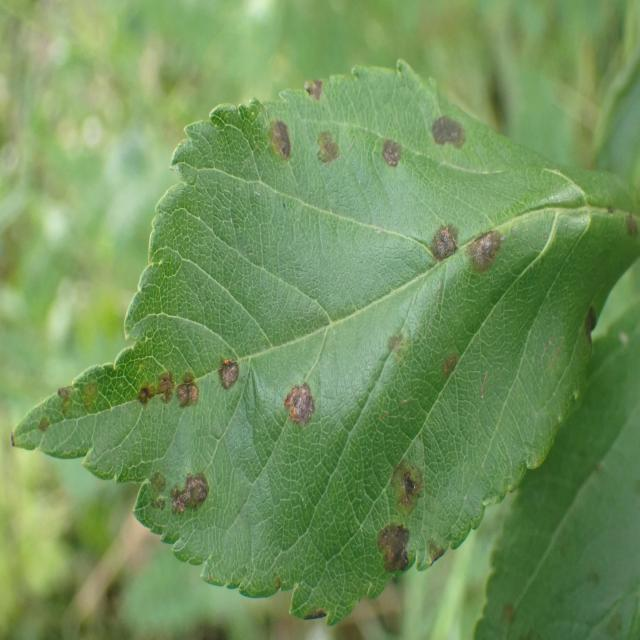scab: (565, 360, 640, 640), (13, 362, 114, 468), (152, 453, 217, 546), (386, 426, 439, 518), (421, 95, 478, 168), (269, 361, 315, 445), (361, 520, 422, 580), (467, 206, 506, 297), (263, 115, 303, 186), (138, 356, 179, 425), (172, 364, 210, 434), (606, 184, 640, 258), (422, 213, 467, 265), (489, 574, 523, 640), (314, 128, 352, 185), (376, 118, 405, 192), (418, 534, 470, 573), (218, 342, 246, 411), (292, 66, 340, 105), (435, 327, 460, 394), (388, 327, 417, 369)
